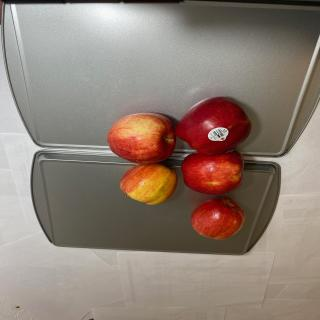Apple: (175, 96, 252, 155), (107, 112, 176, 164), (181, 150, 244, 195), (119, 163, 178, 205), (190, 197, 246, 240)
